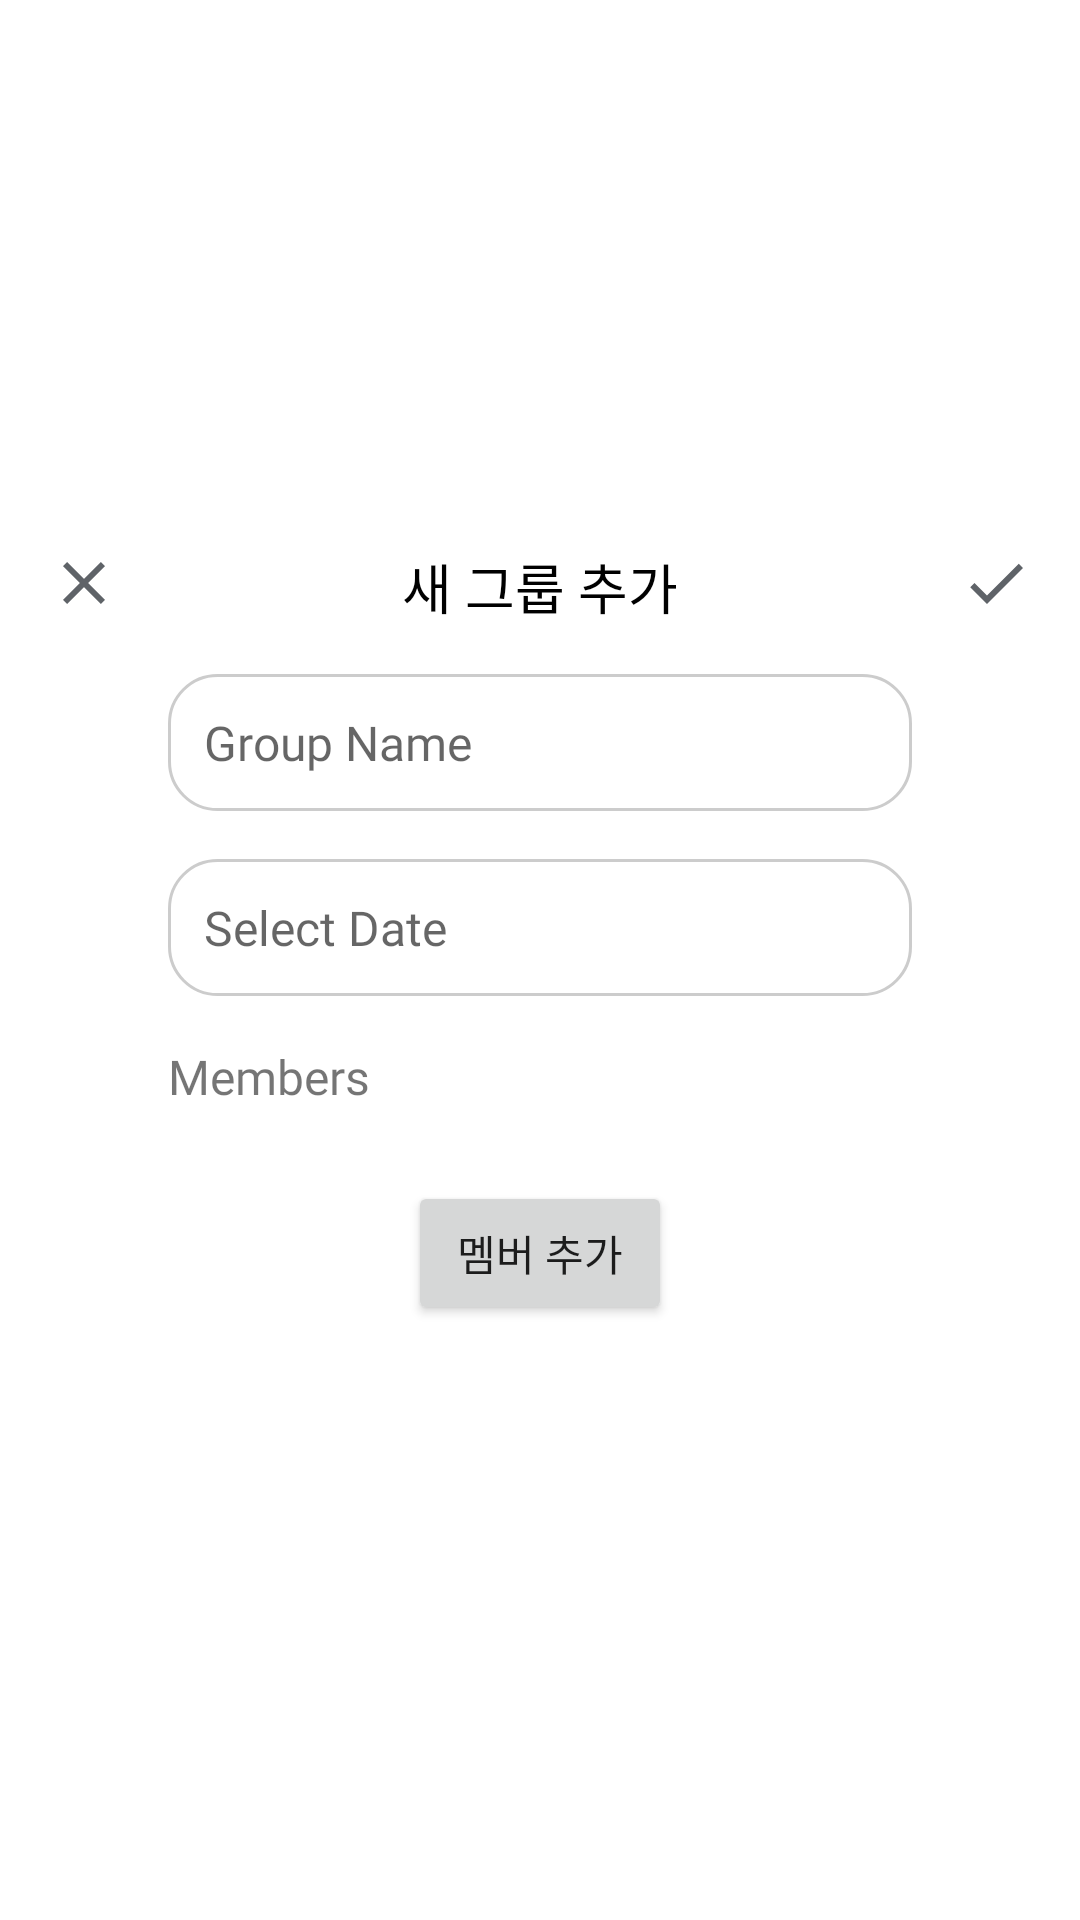

Screen size 1080w x 1920h. Icon name, then its box in pixels as (x1, y1, x2, y2):
Close: (63, 562, 105, 604)
